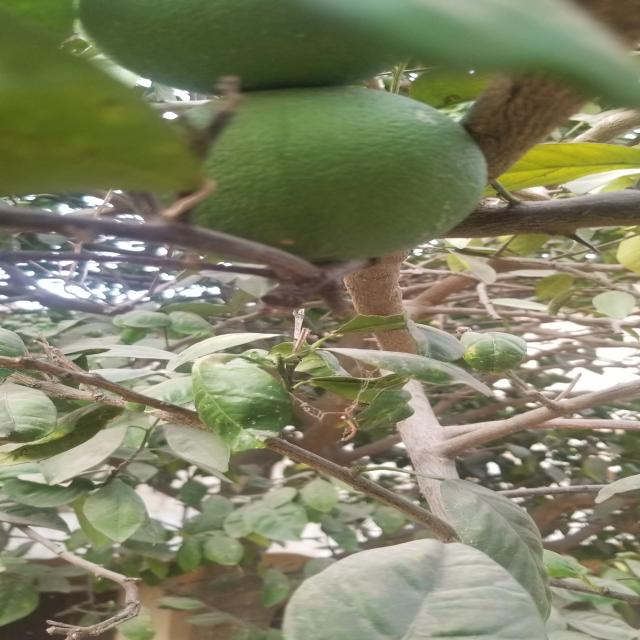Unripe: (137, 90, 513, 272), (62, 0, 474, 94)
